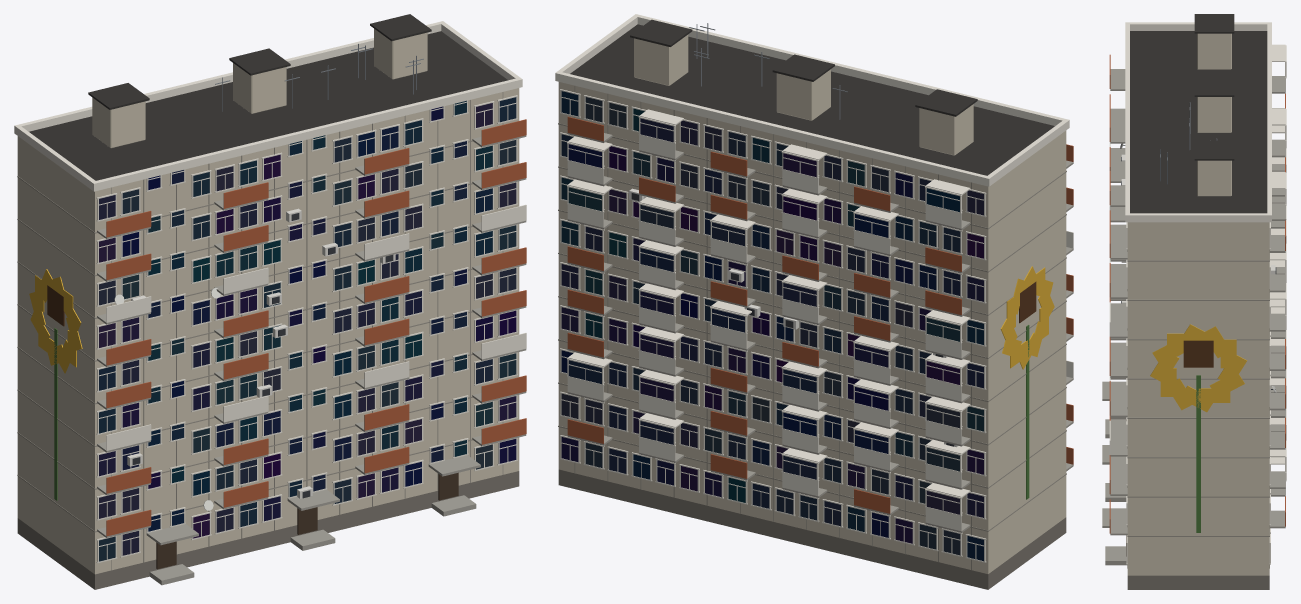
Rendered from block9_b.glb.
The picture shows the model from 3 angles, left to right: view 1: azimuth 30°, elevation 25°; view 2: azimuth 150°, elevation 25°; view 3: azimuth 270°, elevation 25°; orthographic projection. The views are drawn at different scales.
Visible parts, largest first — view 1: block9_b; view 2: block9_b; view 3: block9_b.
Boxes of the visible parts, x1,y1,x2,y2 form: block9_b: (14, 14, 526, 589); block9_b: (555, 14, 1073, 589); block9_b: (1102, 14, 1286, 589).
Size of the model in its own units: 28.9 by 28.51 by 11.67.
